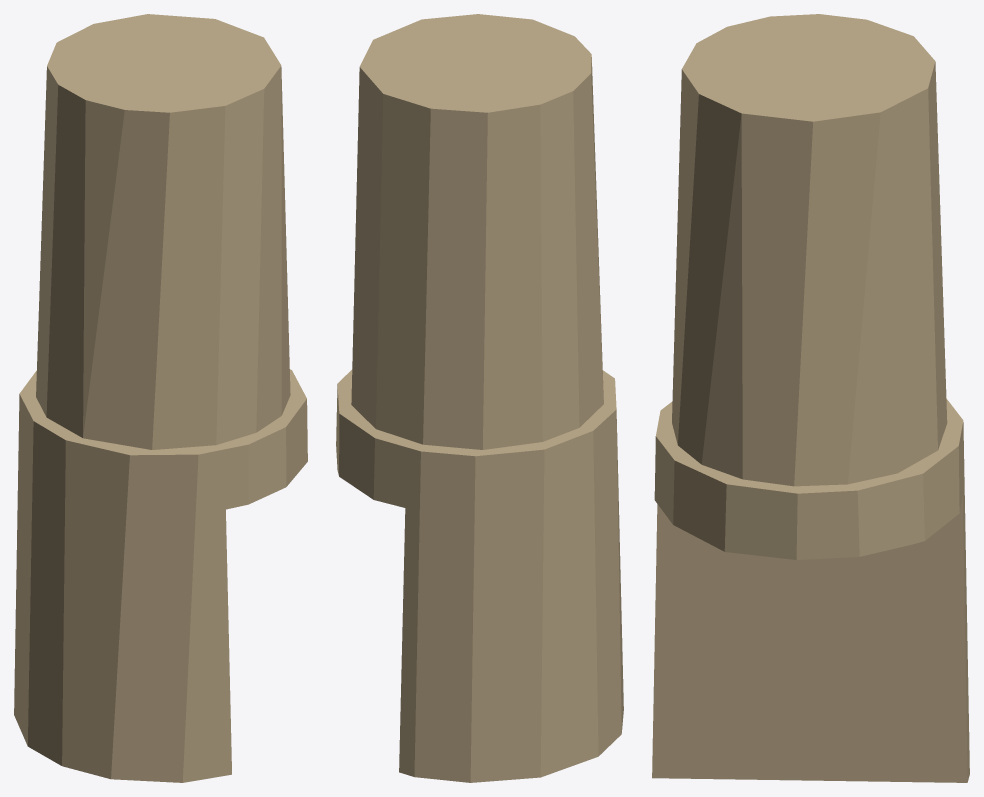
File: log_gruby_zakladka.fbx
The picture shows the model from 3 angles, left to right: view 1: azimuth 30°, elevation 25°; view 2: azimuth 150°, elevation 25°; view 3: azimuth 270°, elevation 25°; orthographic projection. The views are drawn at different scales.
Parts seen in each view (by area): view 1: log_gruby_zakladka; view 2: log_gruby_zakladka; view 3: log_gruby_zakladka.
Boxes of the visible parts, x1,y1,x2,y2 form: log_gruby_zakladka: [14, 14, 307, 782]; log_gruby_zakladka: [336, 14, 623, 782]; log_gruby_zakladka: [652, 14, 969, 782].
Size of the model in its own units: 42.16 by 105 by 42.38.
